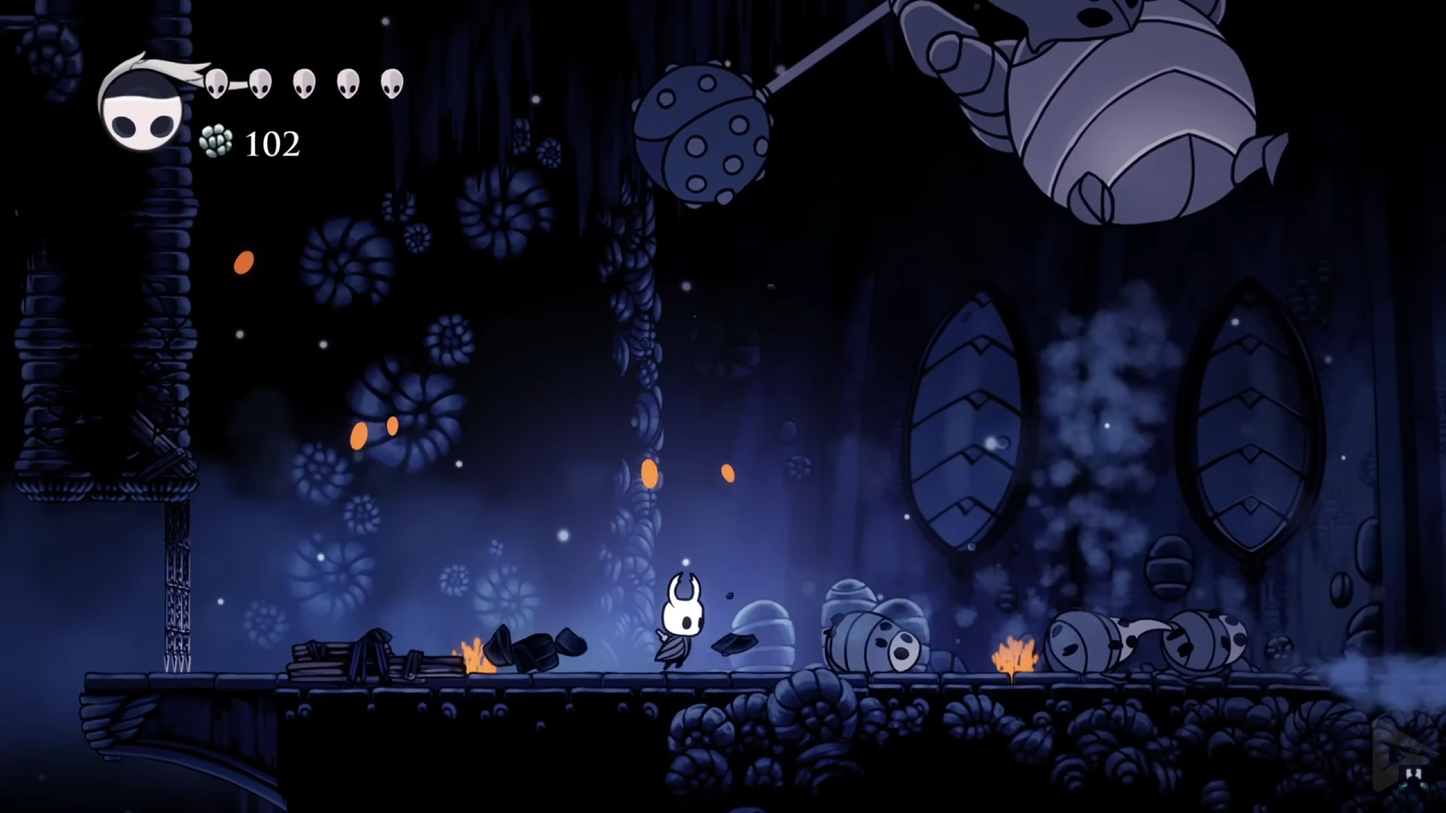HK: (648, 571, 712, 674)
